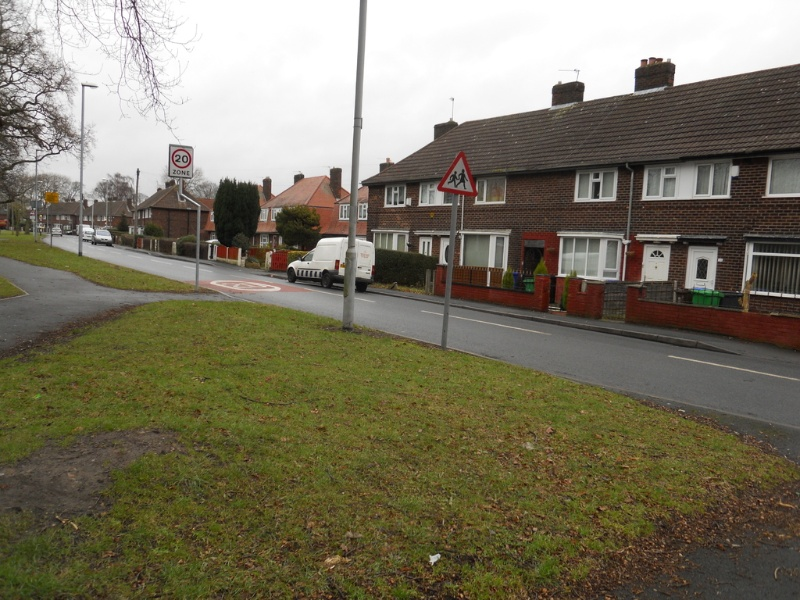pedestrian_crossing_ahead: (437, 149, 477, 196)
speed_limit_20: (170, 148, 193, 170)
